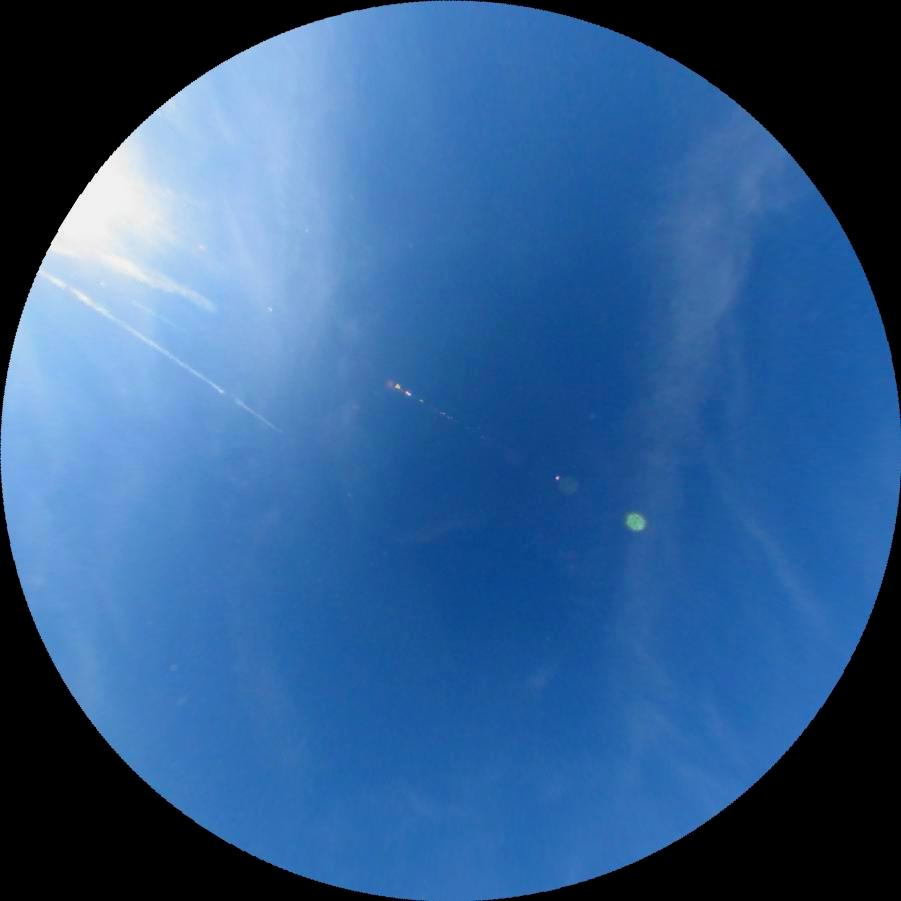contrail veryold: (48, 226, 221, 311)
parasite: (35, 263, 283, 430)
sun: (47, 152, 151, 274)
